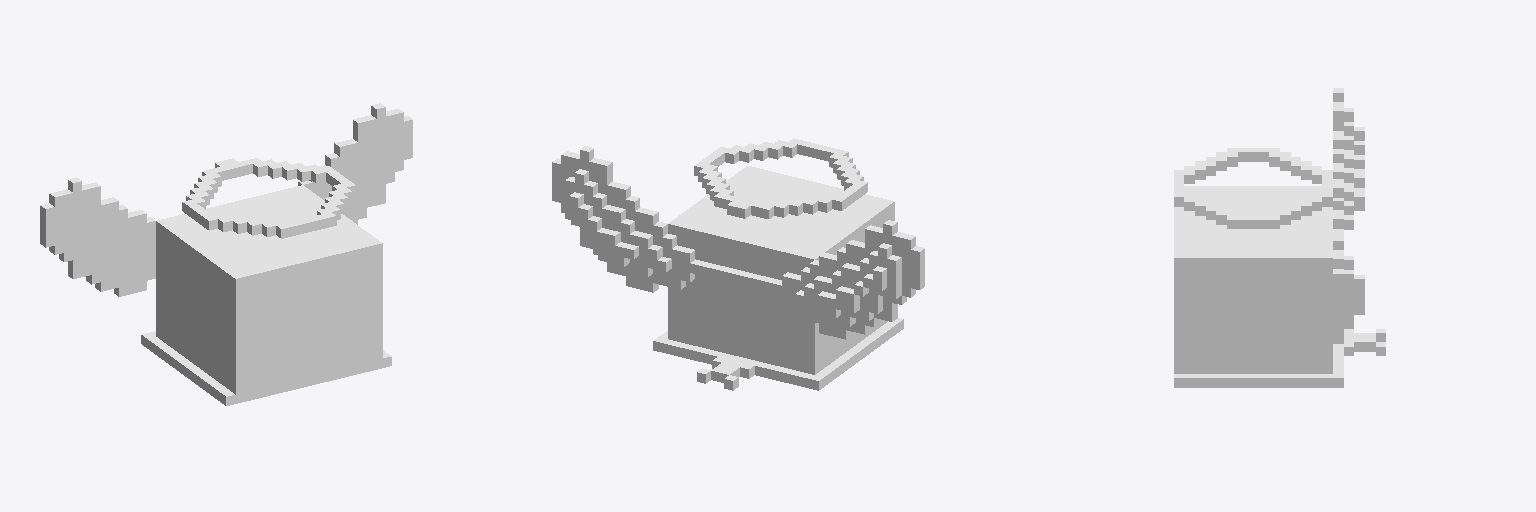
The model's file is ang.obj.
The picture shows the model from 3 angles: view 1: azimuth 30°, elevation 25°; view 2: azimuth 150°, elevation 25°; view 3: azimuth 270°, elevation 25°; orthographic projection.
Parts seen in each view (by area): view 1: object 1; view 2: object 1; view 3: object 1.
Part boxes in pixels (x1,y1,x2,y2): object 1: (40,103,412,405); object 1: (552,138,924,390); object 1: (1174,88,1385,387).
Bounding box in the file's own units: 4 × 1.9 × 2.